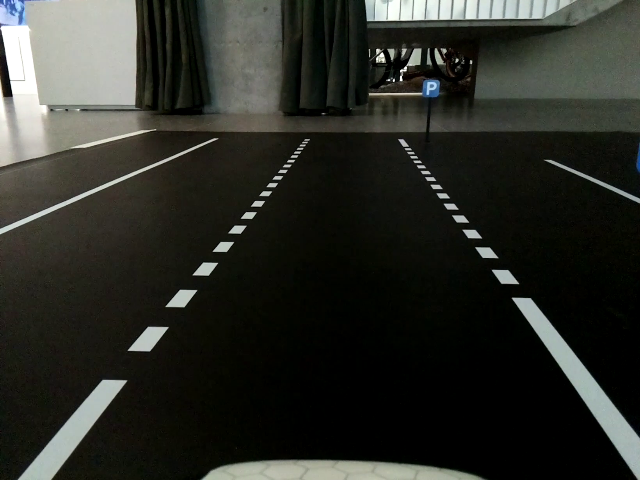park: (425, 80, 440, 98)
